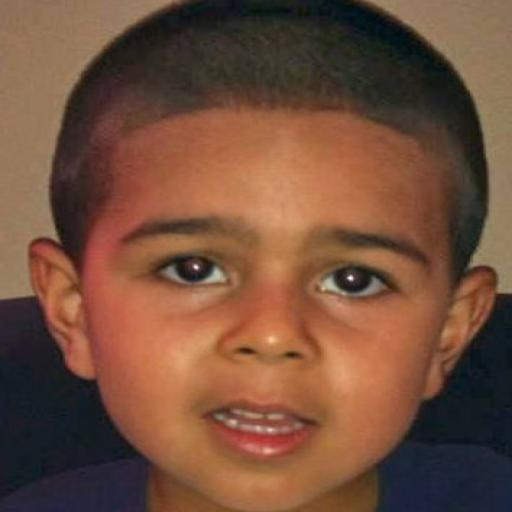Autism: (21, 10, 512, 512)
